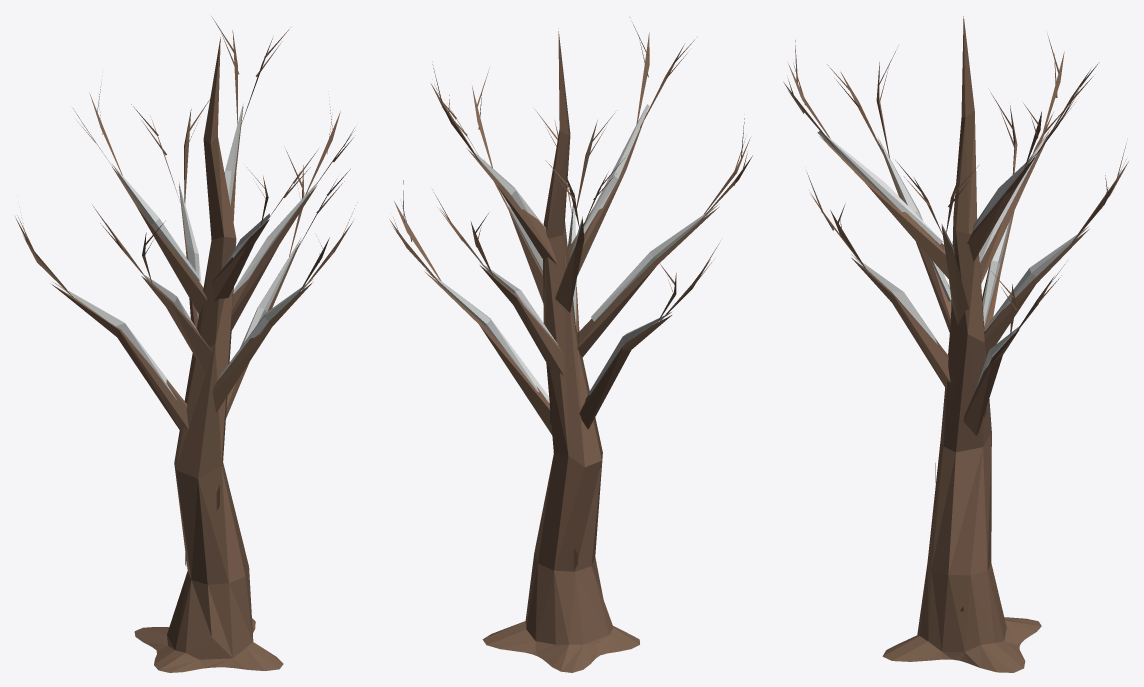
File: maple_winter.glb
3 views of the same model, side by side, from view 1: azimuth 30°, elevation 25°; view 2: azimuth 150°, elevation 25°; view 3: azimuth 270°, elevation 25° (orthographic). The views are drawn at different scales.
Parts seen in each view (by area): view 1: branches, snow; view 2: branches, snow; view 3: branches, snow.
Part boxes in pixels (x1,y1,x2,y2): branches: (15,16,357,672); snow: (52,103,317,399); branches: (389,22,752,672); snow: (424,104,719,402); branches: (783,16,1128,672); snow: (817,128,1088,389).
Size of the model in its own units: 2.44 by 4.42 by 2.2.
